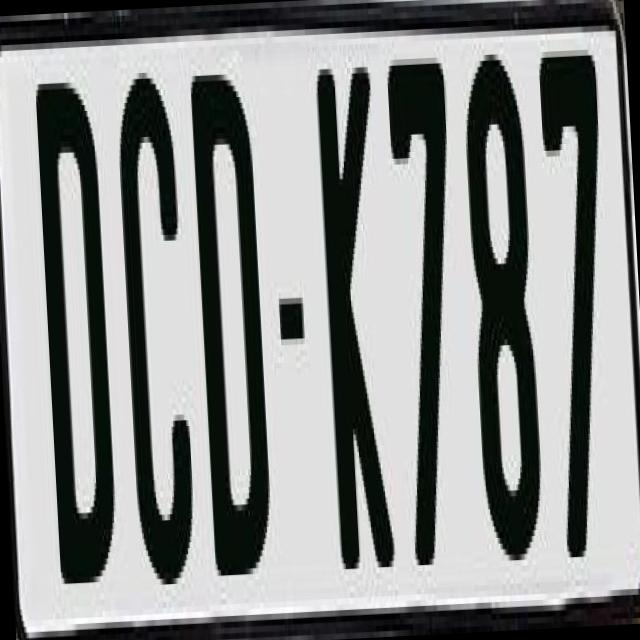7: (538, 54, 630, 575), (387, 63, 473, 601)
8: (457, 54, 545, 568)
C: (111, 66, 200, 604)
D: (34, 81, 128, 596), (188, 56, 273, 582)
K: (316, 55, 399, 575)
